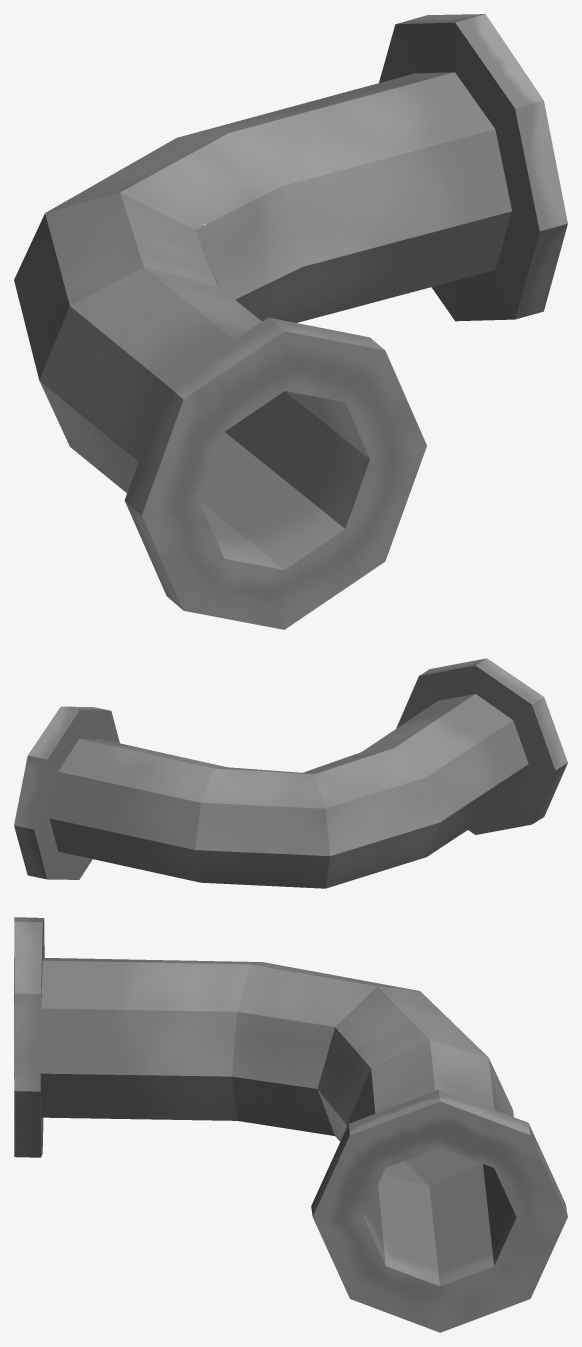
The picture shows the model from 3 angles, top to bottom: view 1: azimuth 30°, elevation 25°; view 2: azimuth 150°, elevation 25°; view 3: azimuth 270°, elevation 25°; orthographic projection. The views are drawn at different scales.
Parts seen in each view (by area): view 1: Pipe2-2; view 2: Pipe2-2; view 3: Pipe2-2.
Part boxes in pixels (left/top/right/bottom): Pipe2-2: left=14, top=14, right=567, bottom=629; Pipe2-2: left=14, top=658, right=567, bottom=888; Pipe2-2: left=14, top=917, right=567, bottom=1332.
Size of the model in its own units: 6.51 by 3 by 6.51.
Materials: 1 (1 with a texture image).
